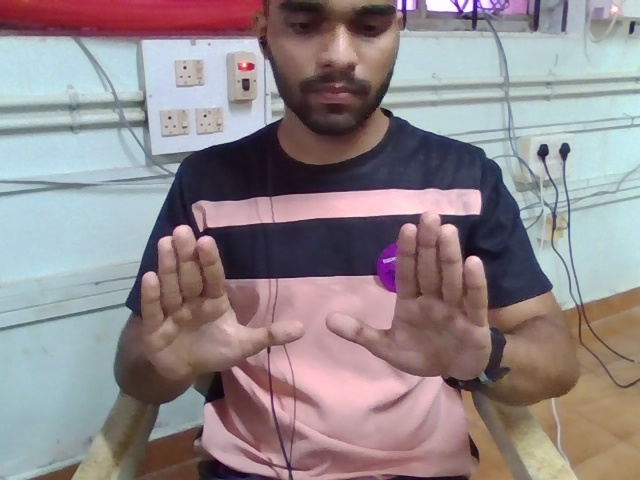All done: (126, 211, 488, 400)
